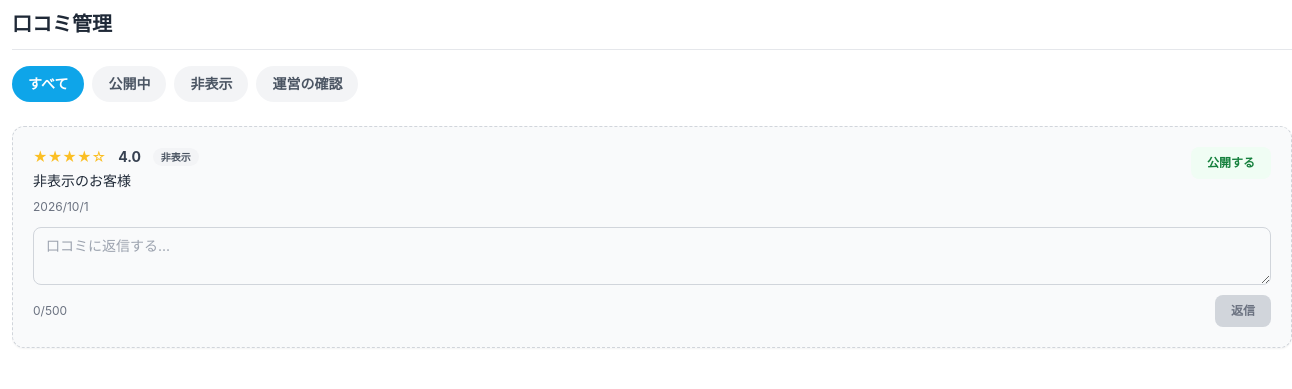
Test: 公開・非表示の切り替え › 読み直したら運営の審査が始まっていた場合は、店舗ページに出ないことを伝える（成功だけを出さない）
Click the button "公開する" at (1231, 163), box [1191, 147, 1271, 179]
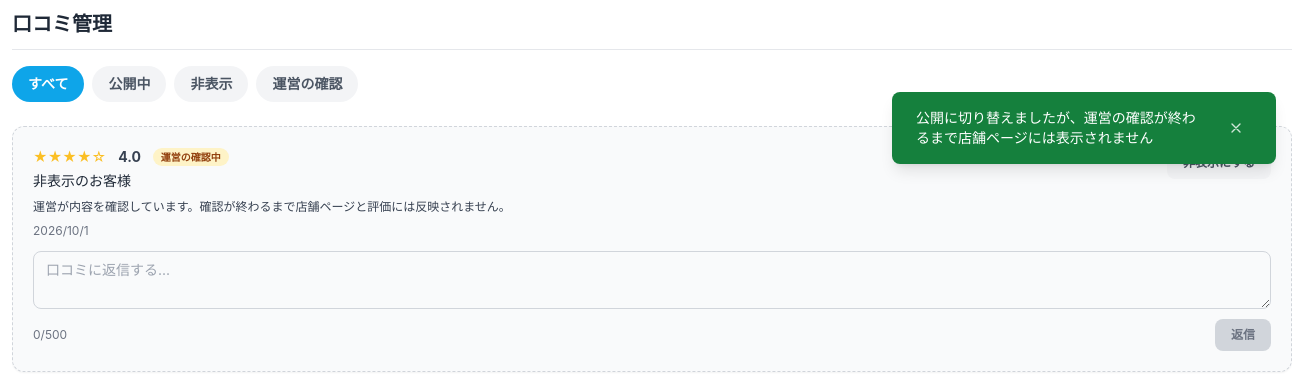
Expected: the text "公開に切り替えましたが、運営の確認が終わるまで店舗ページには表示されません" is shown, [916, 108, 1208, 148]
Expected: the text "運営の確認中" is shown, [153, 148, 229, 166]
